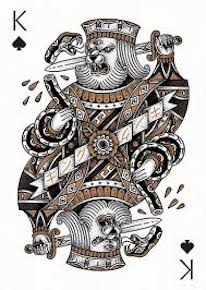KingOfSpades: (4, 1, 203, 284)
